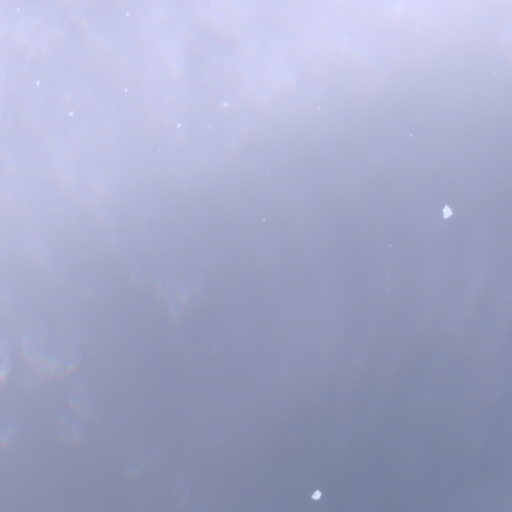Iceberg: (442, 205, 453, 218), (311, 490, 321, 499), (36, 80, 39, 85), (69, 111, 72, 115), (126, 12, 128, 15), (178, 124, 180, 126), (125, 88, 126, 91), (263, 218, 264, 220), (410, 135, 411, 136), (389, 245, 390, 246)
